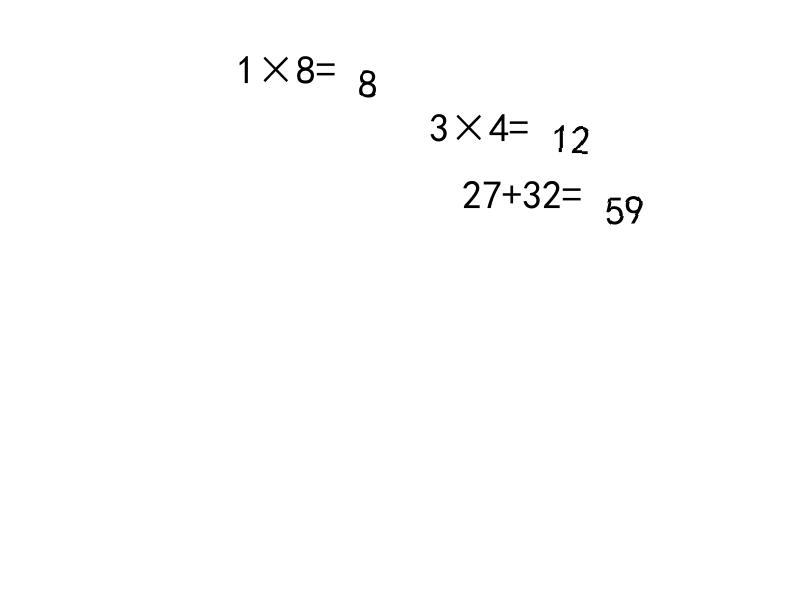+: (502, 174, 522, 203)
1: (539, 107, 559, 136), (236, 49, 256, 77)
2: (559, 107, 579, 136), (462, 174, 482, 203), (542, 174, 562, 203)
3: (429, 107, 449, 136), (522, 174, 542, 203)
4: (489, 107, 509, 136)
5: (592, 174, 612, 203)
7: (482, 174, 502, 203)
8: (296, 49, 316, 77), (346, 49, 366, 77)
9: (612, 174, 632, 203)
=: (509, 107, 529, 136), (562, 174, 582, 203), (316, 49, 336, 77)
×: (449, 107, 489, 136), (256, 49, 296, 77)
